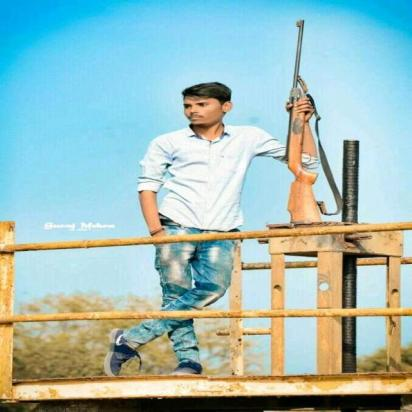Gun: (279, 18, 326, 226)
